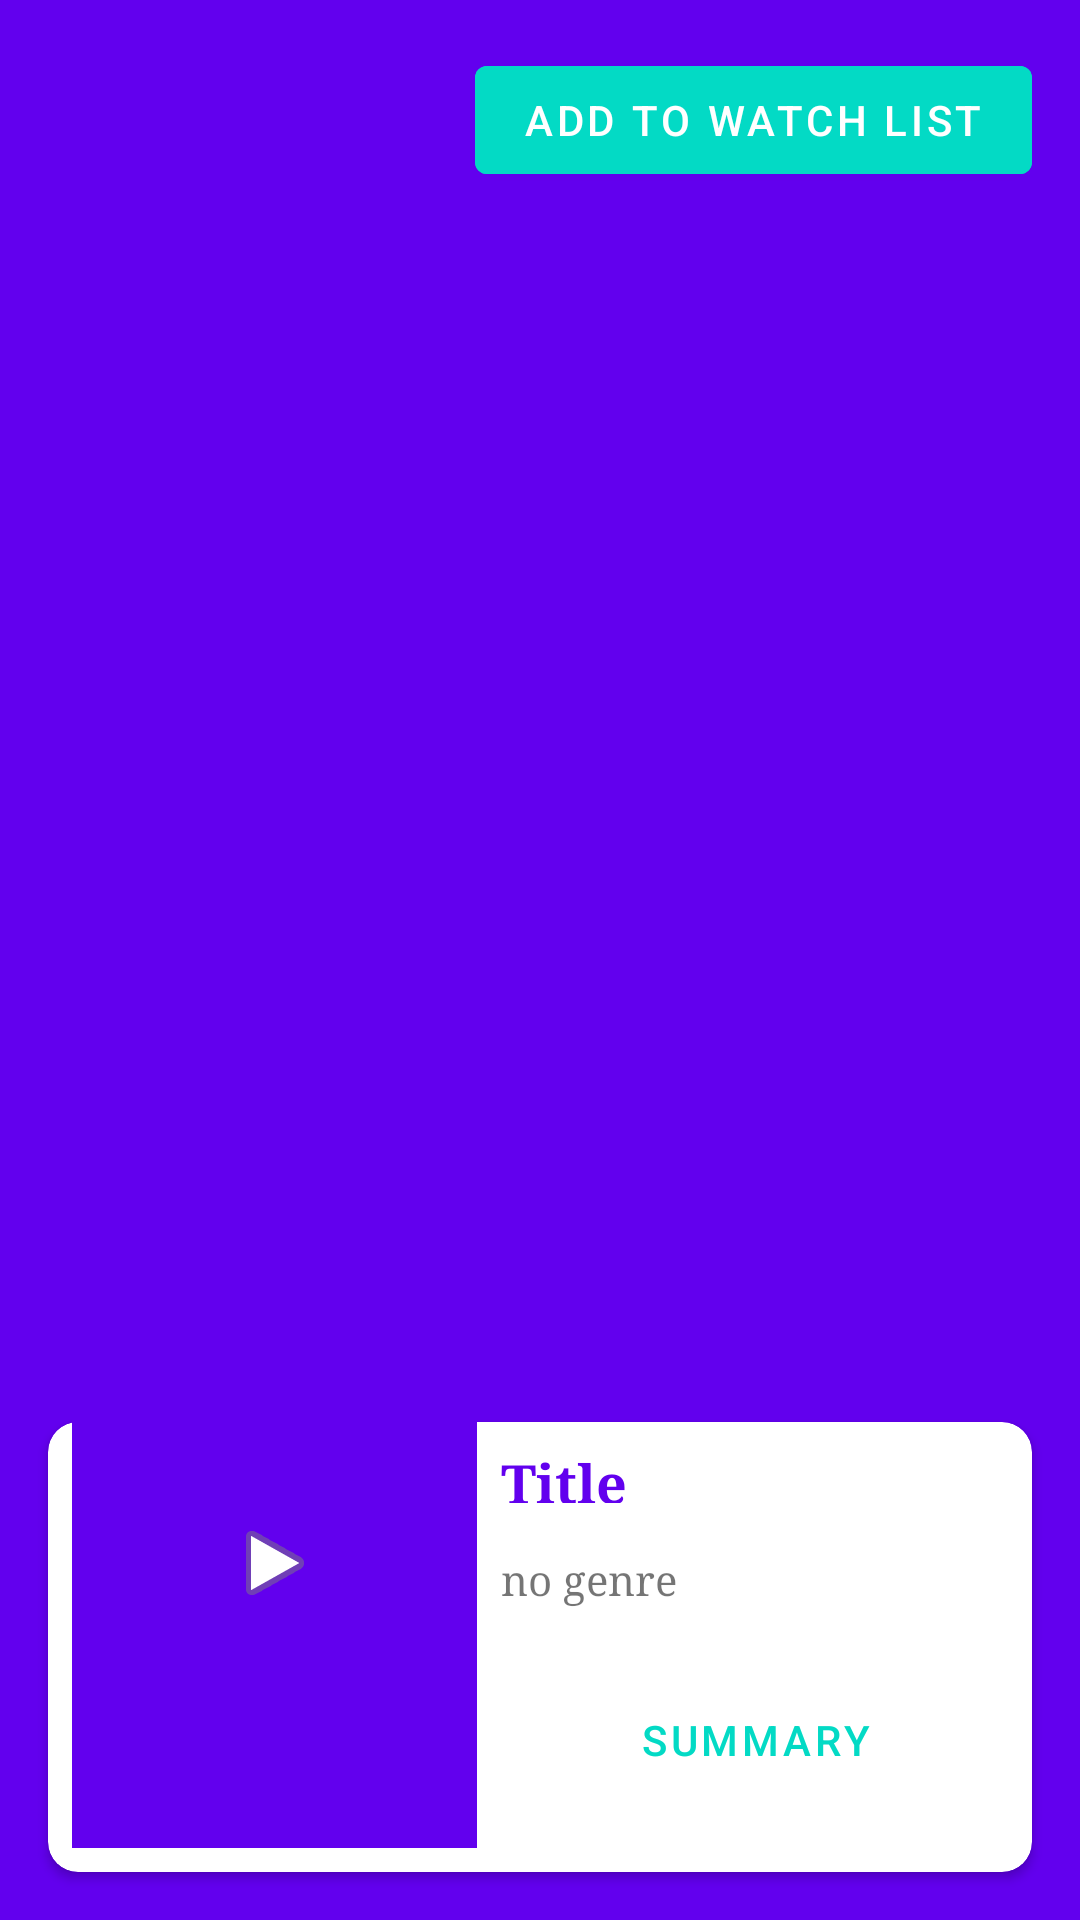

Icon click points for this 1080*1920 phone screenshot, format (x=x, y=y):
play: (x=275, y=1563)
